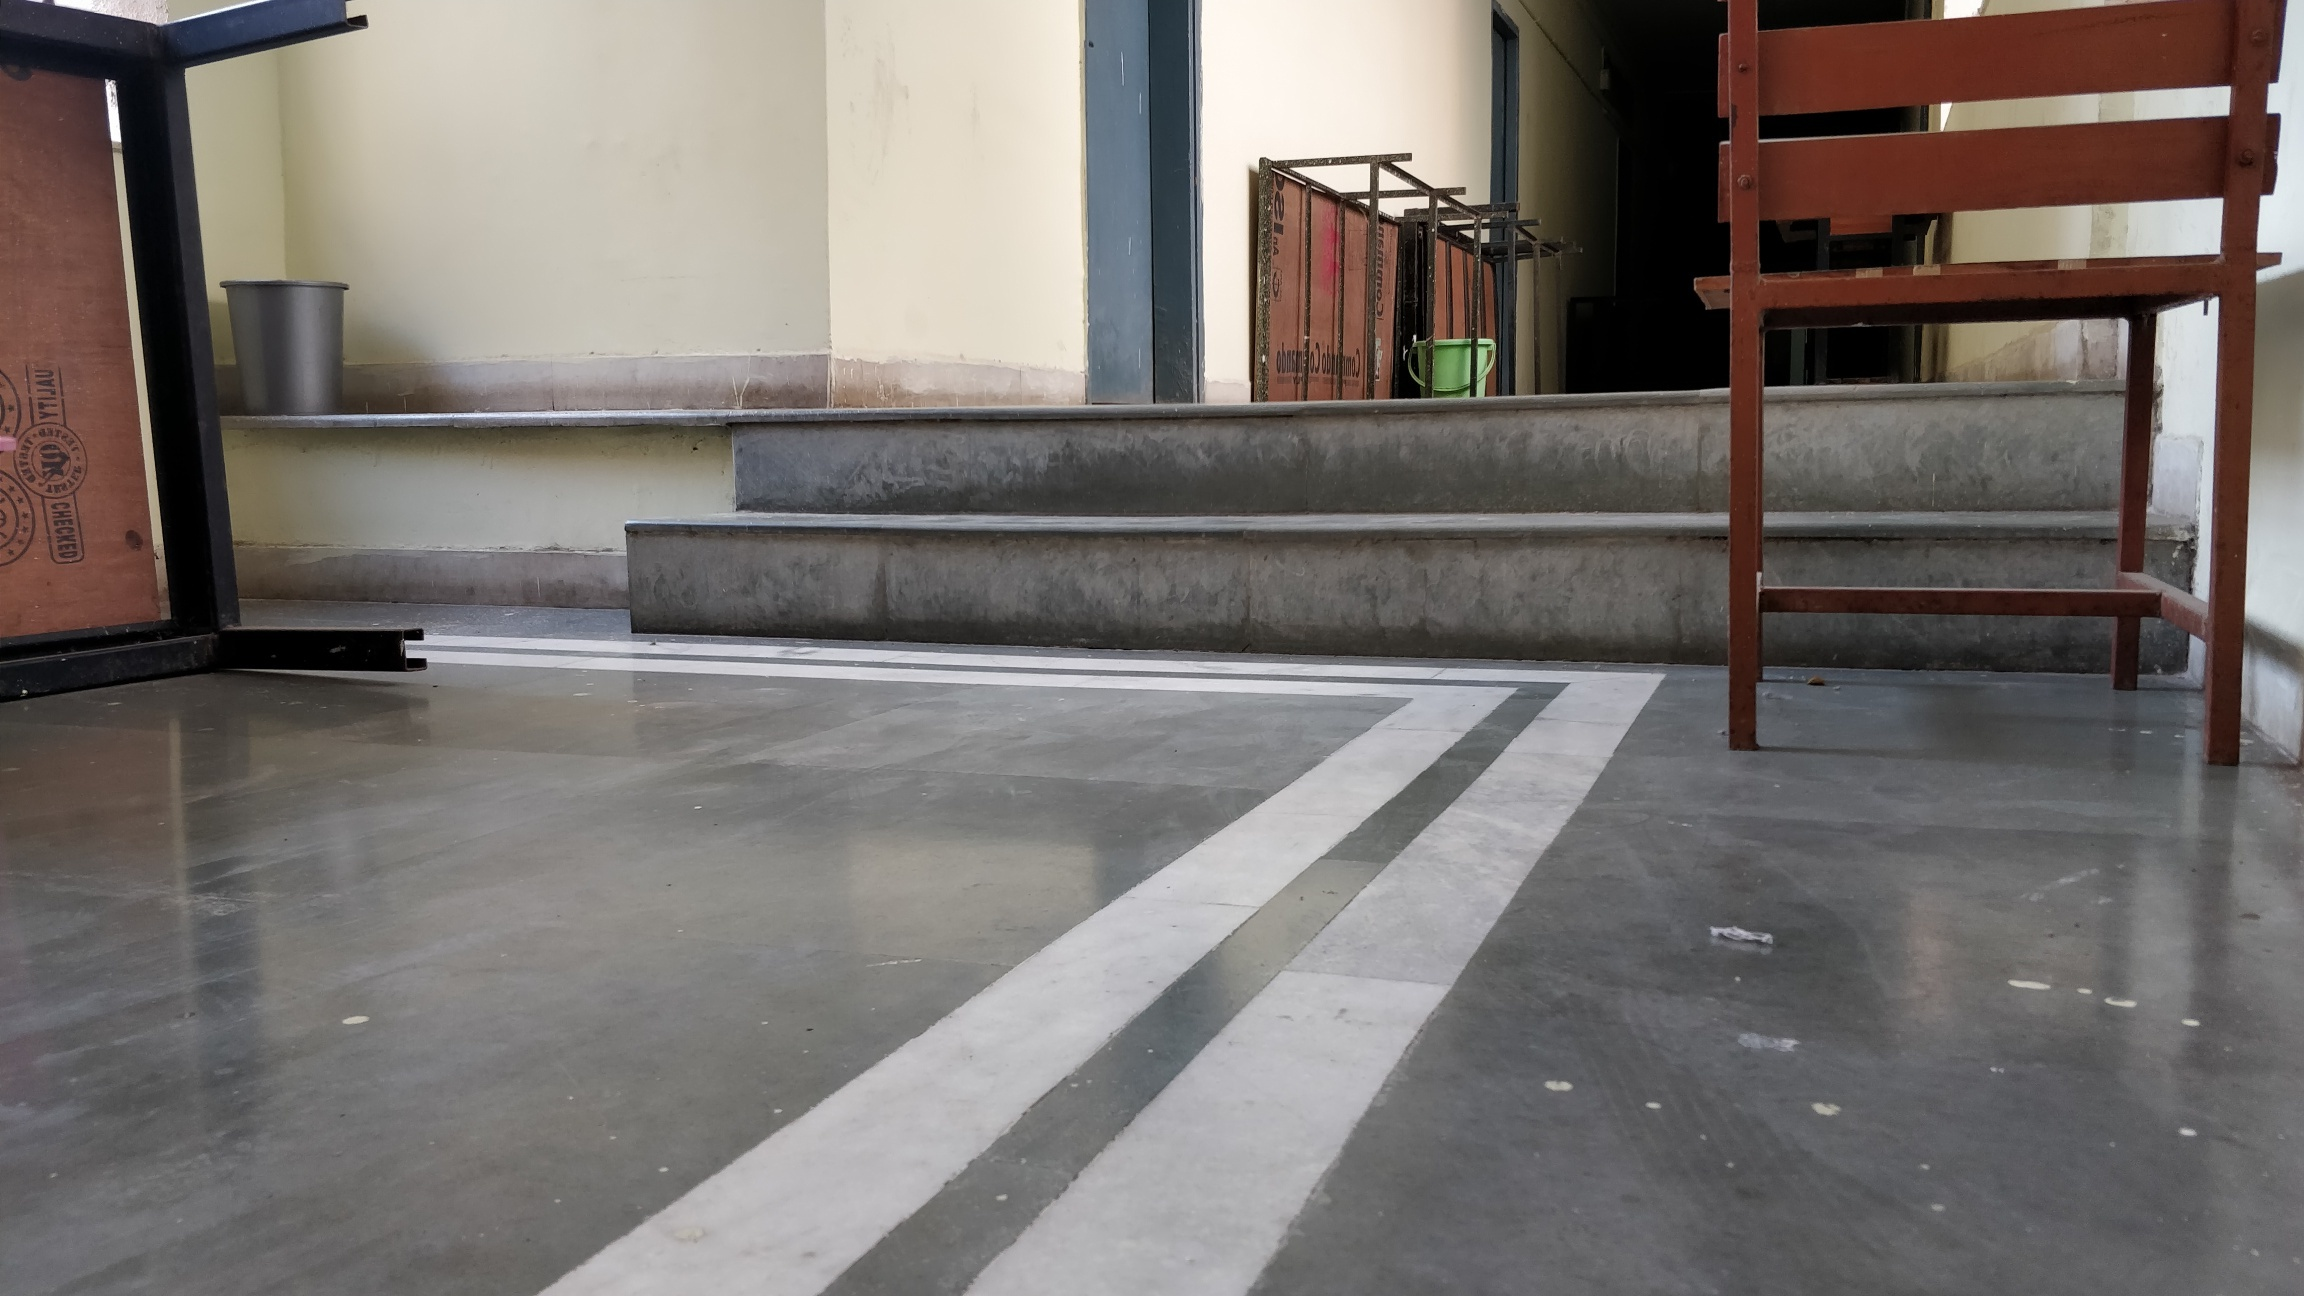stairs_up: (617, 388, 1736, 647)
